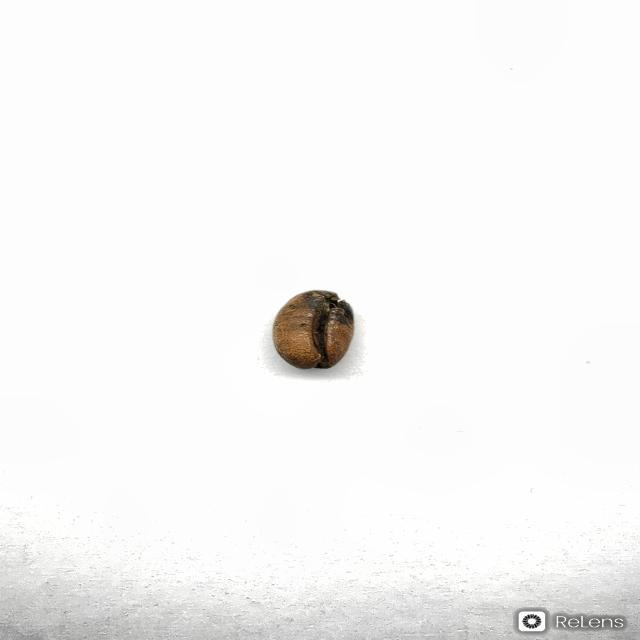Insect damage: (271, 289, 355, 369)
